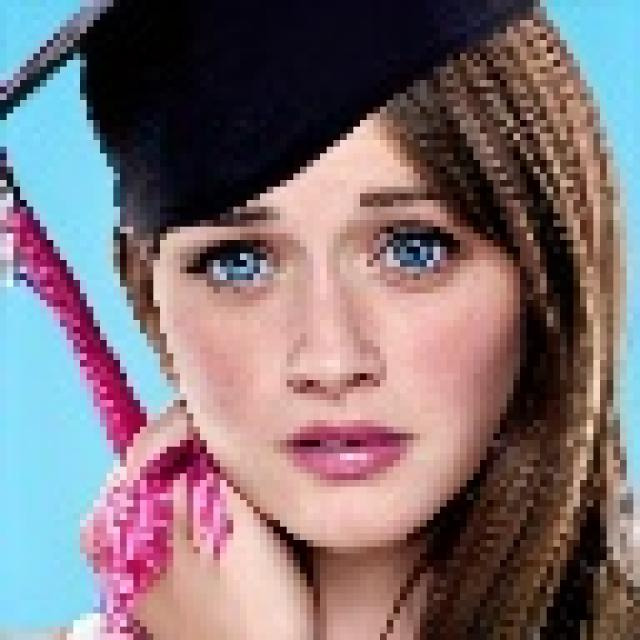sad: (138, 54, 566, 570)
